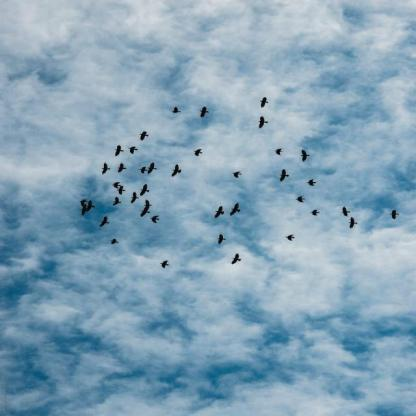bird: (228, 199, 246, 220), (134, 127, 158, 142), (192, 105, 215, 120), (226, 167, 248, 180), (157, 256, 176, 271), (275, 169, 291, 186), (148, 160, 161, 180), (213, 203, 226, 223), (296, 148, 312, 164), (254, 95, 271, 110), (86, 198, 101, 215), (107, 145, 126, 158), (170, 163, 185, 179), (257, 114, 272, 129), (125, 144, 142, 157), (188, 148, 208, 159), (215, 232, 228, 248), (337, 205, 352, 218), (167, 105, 184, 116), (98, 161, 110, 176), (305, 176, 318, 189), (116, 162, 129, 175), (347, 217, 360, 230), (129, 190, 140, 205), (282, 234, 302, 242), (273, 144, 285, 157), (140, 183, 151, 197), (100, 216, 111, 228), (109, 236, 120, 246), (295, 195, 306, 205), (117, 185, 125, 198), (111, 180, 120, 190), (140, 165, 148, 176), (310, 209, 320, 217)
